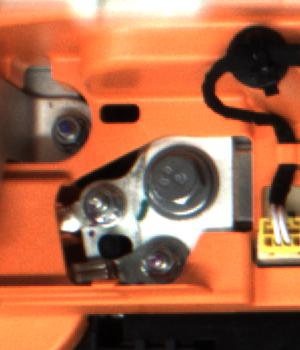nut_b: (139, 140, 224, 217)
